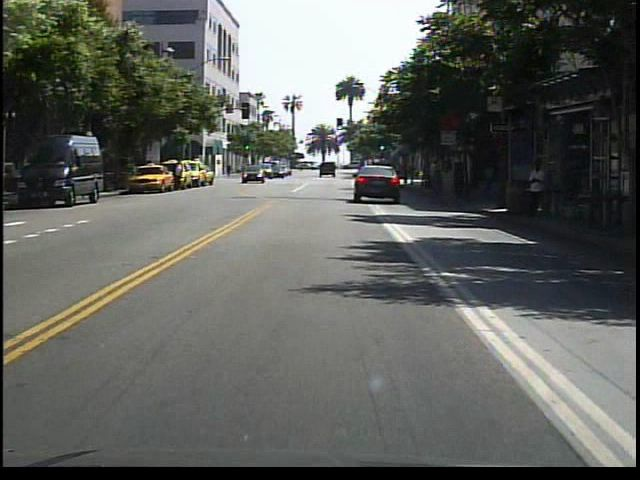person: (525, 152, 557, 224), (172, 158, 189, 194)
